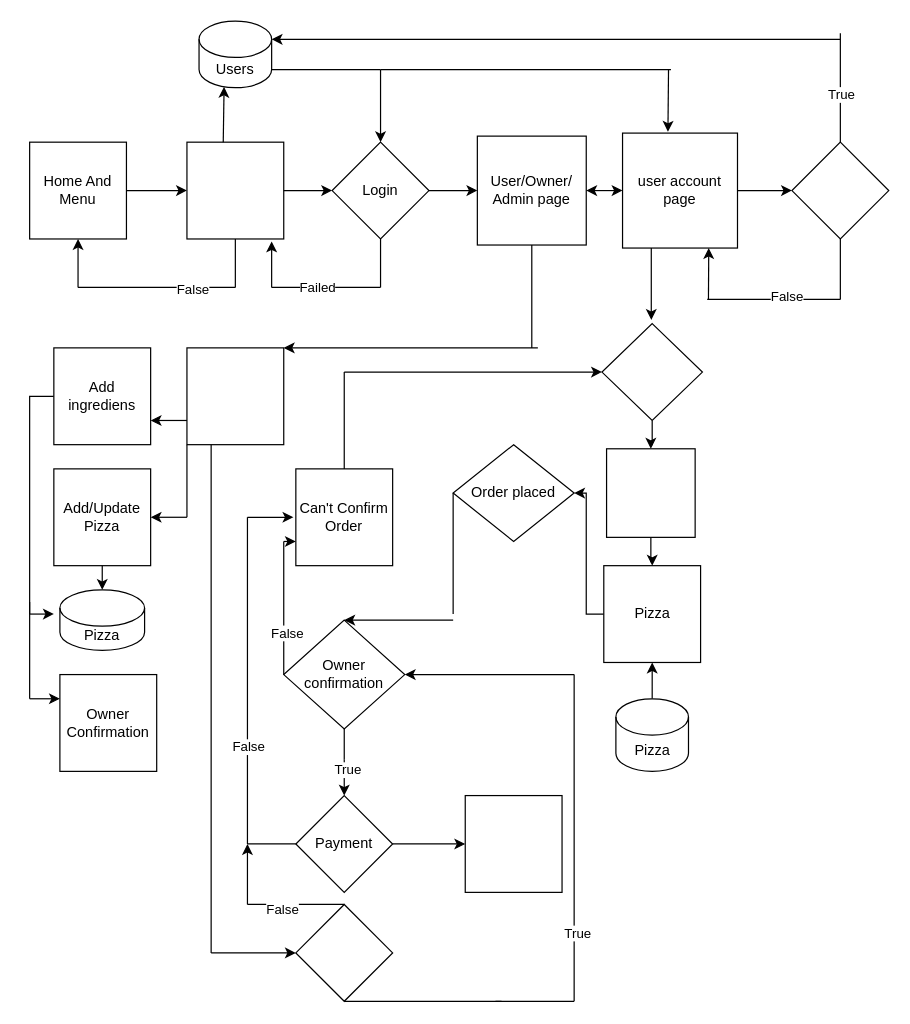
Some shapes in this 910 by 1024 pixel diagram are drawn without their labels. Here are the shapes that lost their labels. From the top down, the centre of each, then its label:
At (235,190): "Login/Register".
At (840,190): "edit".
At (651,371): "Place order".
At (235,396): "Owner account page".
At (650,492): "Custom time".
At (513,843): "Checkout/until done".
At (344,952): "Confirm time".
